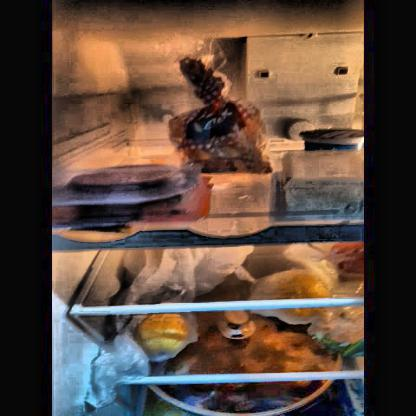cheese: (280, 152, 363, 214)
green_chillies: (317, 325, 364, 359)
lemon: (140, 314, 192, 356), (271, 272, 330, 301)
salami: (72, 166, 174, 193)
yoghurt: (302, 128, 365, 152)
